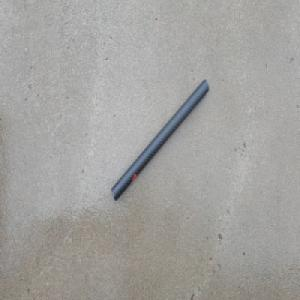LuggagePart: (111, 78, 209, 201)
